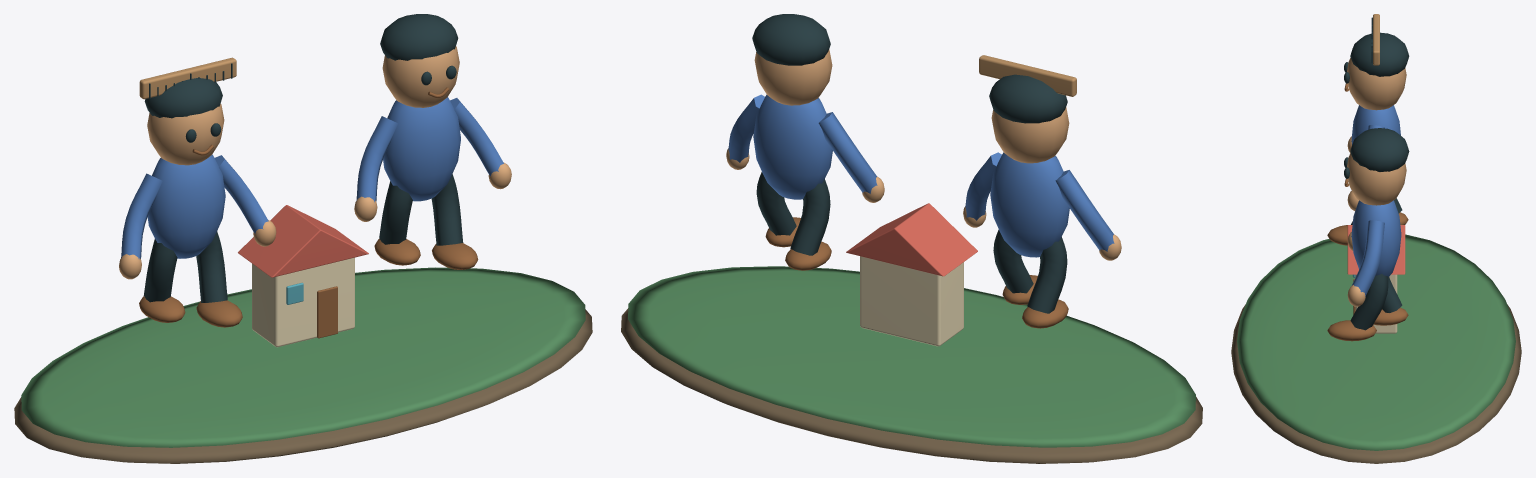
File: complete-first-measured-husband.glb
The picture shows the model from 3 angles, left to right: view 1: azimuth 30°, elevation 25°; view 2: azimuth 150°, elevation 25°; view 3: azimuth 270°, elevation 25°; orthographic projection. The views are drawn at different scales.
Visible parts, largest first — view 1: complete-first-measured-husband_surface_01, complete-first-measured-husband_surface_05, complete-first-measured-husband_surface_03, complete-first-measured-husband_surface_00, complete-first-measured-husband_surface_02, complete-first-measured-husband_surface_07, complete-first-measured-husband_surface_04, complete-first-measured-husband_surface_08, complete-first-measured-husband_surface_06; view 2: complete-first-measured-husband_surface_01, complete-first-measured-husband_surface_05, complete-first-measured-husband_surface_03, complete-first-measured-husband_surface_00, complete-first-measured-husband_surface_07, complete-first-measured-husband_surface_02, complete-first-measured-husband_surface_08, complete-first-measured-husband_surface_04, complete-first-measured-husband_surface_06; view 3: complete-first-measured-husband_surface_01, complete-first-measured-husband_surface_03, complete-first-measured-husband_surface_00, complete-first-measured-husband_surface_05, complete-first-measured-husband_surface_02, complete-first-measured-husband_surface_04, complete-first-measured-husband_surface_08, complete-first-measured-husband_surface_06, complete-first-measured-husband_surface_07.
Boxes of the visible parts, x1,y1,x2,y2 form: complete-first-measured-husband_surface_01: [21, 267, 585, 447]; complete-first-measured-husband_surface_05: [121, 97, 503, 259]; complete-first-measured-husband_surface_03: [143, 14, 463, 302]; complete-first-measured-husband_surface_00: [14, 309, 592, 463]; complete-first-measured-husband_surface_02: [119, 46, 511, 279]; complete-first-measured-husband_surface_07: [252, 257, 354, 347]; complete-first-measured-husband_surface_04: [139, 87, 478, 338]; complete-first-measured-husband_surface_08: [238, 205, 368, 277]; complete-first-measured-husband_surface_06: [139, 57, 236, 99]; complete-first-measured-husband_surface_01: [628, 266, 1195, 447]; complete-first-measured-husband_surface_05: [728, 94, 1114, 257]; complete-first-measured-husband_surface_03: [752, 14, 1067, 313]; complete-first-measured-husband_surface_00: [621, 308, 1202, 463]; complete-first-measured-husband_surface_07: [860, 256, 963, 346]; complete-first-measured-husband_surface_02: [726, 49, 1121, 260]; complete-first-measured-husband_surface_08: [846, 203, 977, 276]; complete-first-measured-husband_surface_04: [765, 217, 1068, 328]; complete-first-measured-husband_surface_06: [979, 55, 1076, 96]; complete-first-measured-husband_surface_01: [1237, 234, 1515, 450]; complete-first-measured-husband_surface_03: [1344, 17, 1409, 330]; complete-first-measured-husband_surface_00: [1231, 304, 1521, 463]; complete-first-measured-husband_surface_05: [1351, 105, 1401, 296]; complete-first-measured-husband_surface_02: [1347, 58, 1406, 306]; complete-first-measured-husband_surface_04: [1327, 83, 1408, 341]; complete-first-measured-husband_surface_08: [1347, 225, 1405, 274]; complete-first-measured-husband_surface_06: [1373, 14, 1379, 65]; complete-first-measured-husband_surface_07: [1355, 274, 1397, 333].
Bounding box in the file's own units: 4.56 × 2.72 × 2.5.
